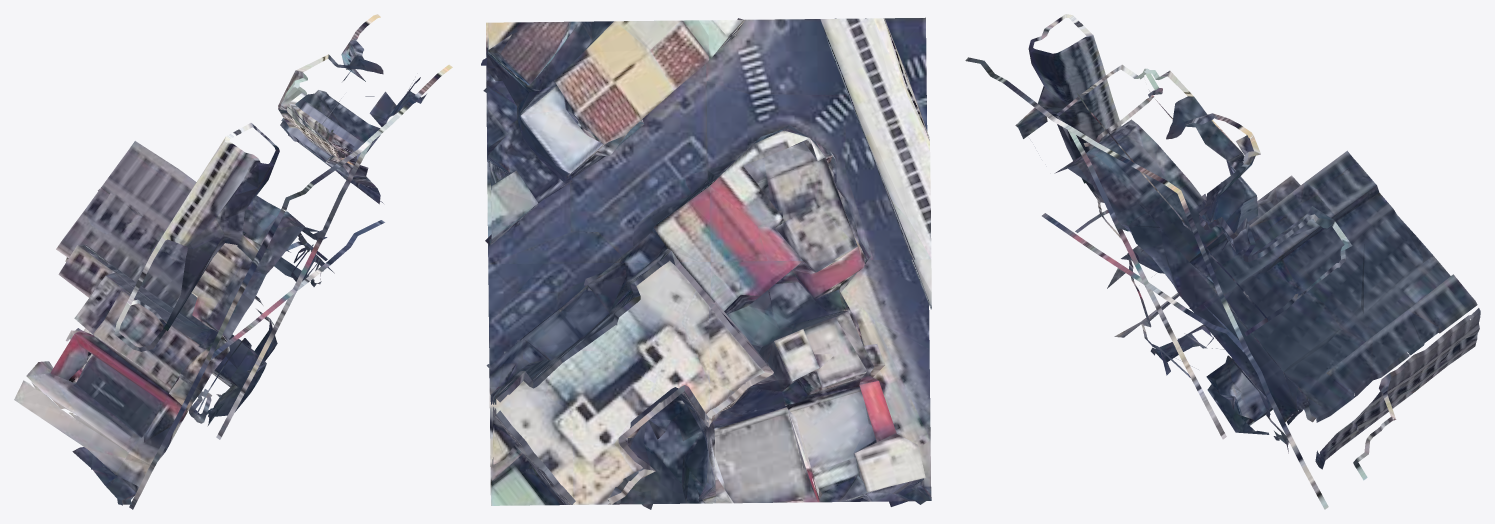
3 views of the same model, side by side, from view 1: azimuth 30°, elevation 25°; view 2: azimuth 150°, elevation 25°; view 3: azimuth 270°, elevation 25° (orthographic). The views are drawn at different scales.
Size of the model in its own units: 87.41 by 77.71 by 91.92.
2 materials, 2 textured.
